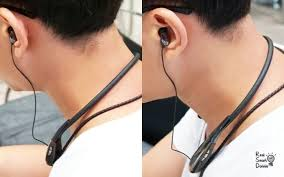earphone: (150, 8, 188, 62), (1, 8, 29, 57)
